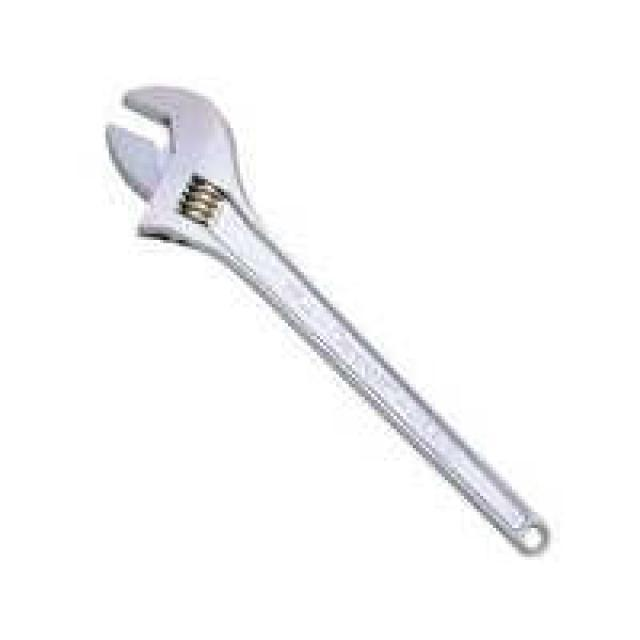wrench: (98, 74, 558, 562)
